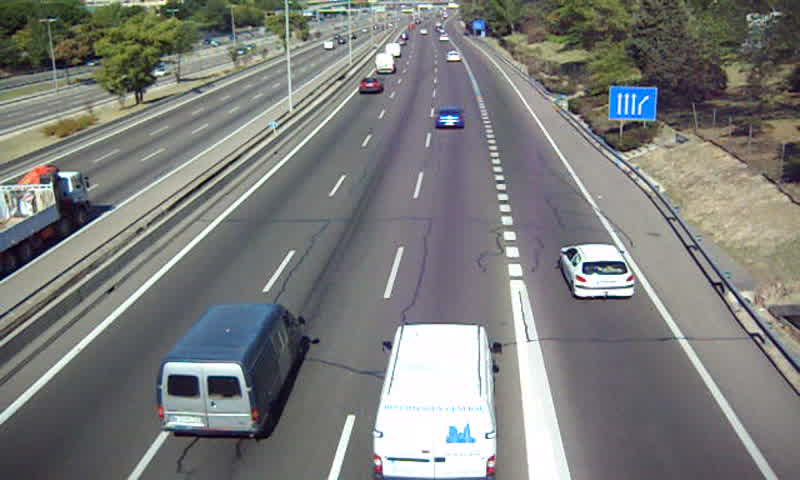car: (559, 243, 636, 301), (432, 106, 466, 130), (358, 76, 384, 95)
van: (156, 304, 306, 440), (373, 323, 498, 480), (373, 52, 396, 74)
